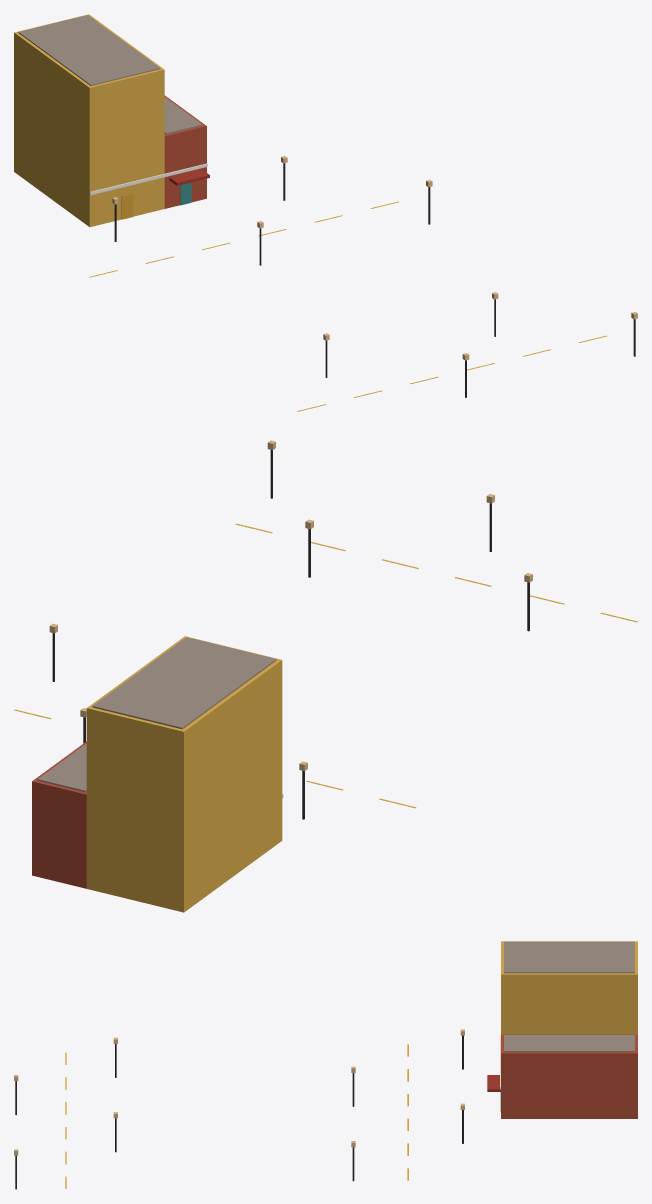
File: chunk_2_-1.glb
3 views of the same model, one above another, from view 1: azimuth 30°, elevation 25°; view 2: azimuth 150°, elevation 25°; view 3: azimuth 270°, elevation 25° (orthographic). The views are drawn at different scales.
Visible parts, largest first — view 1: chunk_2_-1__building, chunk_2_-1__lamp; view 2: chunk_2_-1__building, chunk_2_-1__lamp; view 3: chunk_2_-1__building, chunk_2_-1__lamp.
Part boxes in pixels (x1=…): chunk_2_-1__building: x1=14, y1=14, x2=209, y2=226; chunk_2_-1__lamp: x1=112, y1=156, x2=637, y2=397; chunk_2_-1__building: x1=32, y1=636, x2=283, y2=912; chunk_2_-1__lamp: x1=49, y1=440, x2=532, y2=819; chunk_2_-1__building: x1=487, y1=941, x2=637, y2=1118; chunk_2_-1__lamp: x1=14, y1=1029, x2=464, y2=1189.
Bounding box in the file's own units: 35.22 × 14.32 × 63.82.
